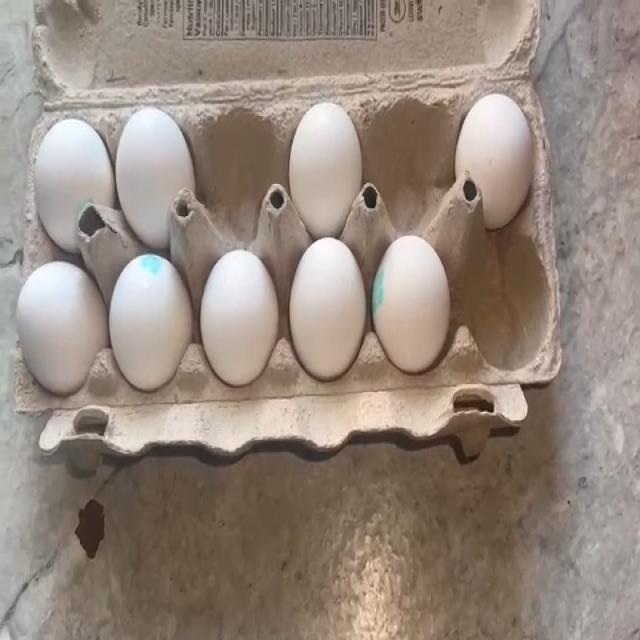Egg: (17, 268, 94, 369), (31, 118, 105, 222), (210, 260, 276, 376), (459, 95, 528, 200), (122, 117, 184, 231), (300, 255, 362, 368), (296, 110, 355, 224), (386, 245, 447, 352)
